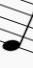E: (2, 2, 33, 53)
